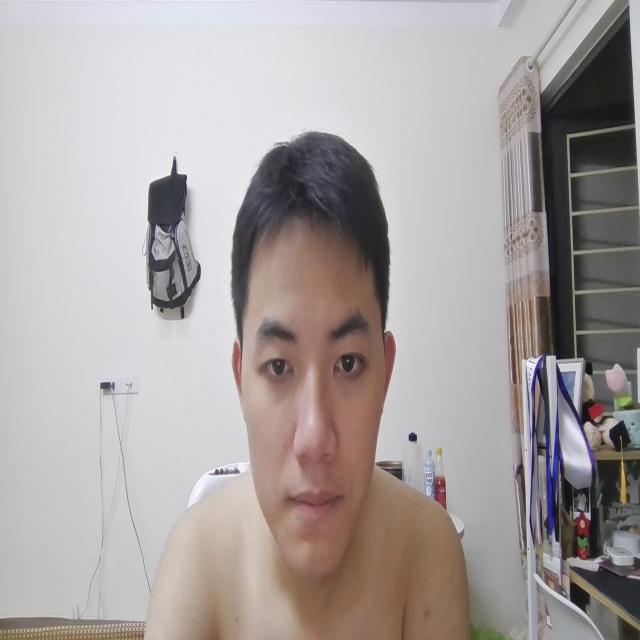student: (144, 126, 473, 640)
